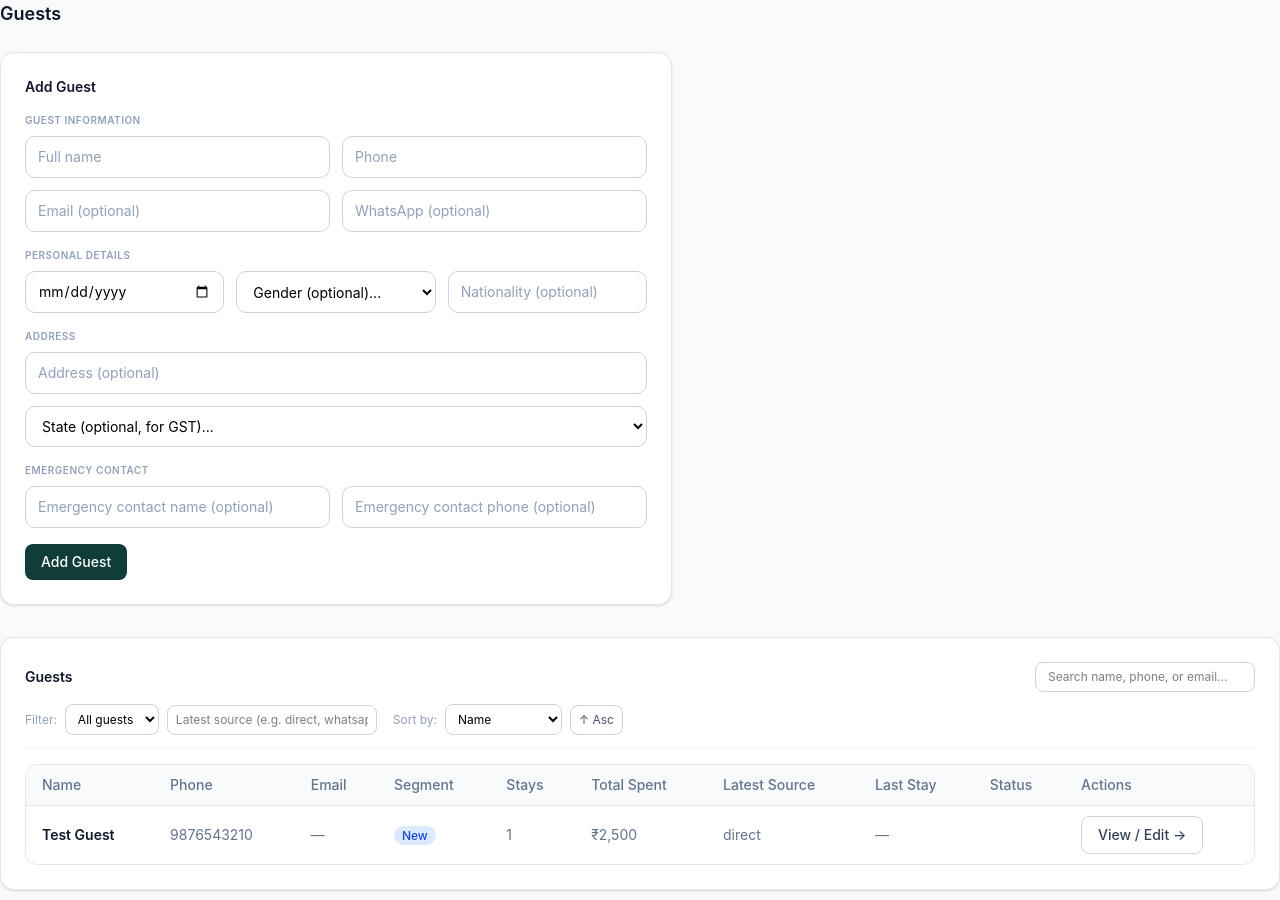
GuestsPage — Guest Merge visibility (RBAC Phase B security fix, finding I-7) › Admin sees the Merge Duplicate control
Click the button "View / Edit →": x=1142, y=835 [1081,816,1203,854]
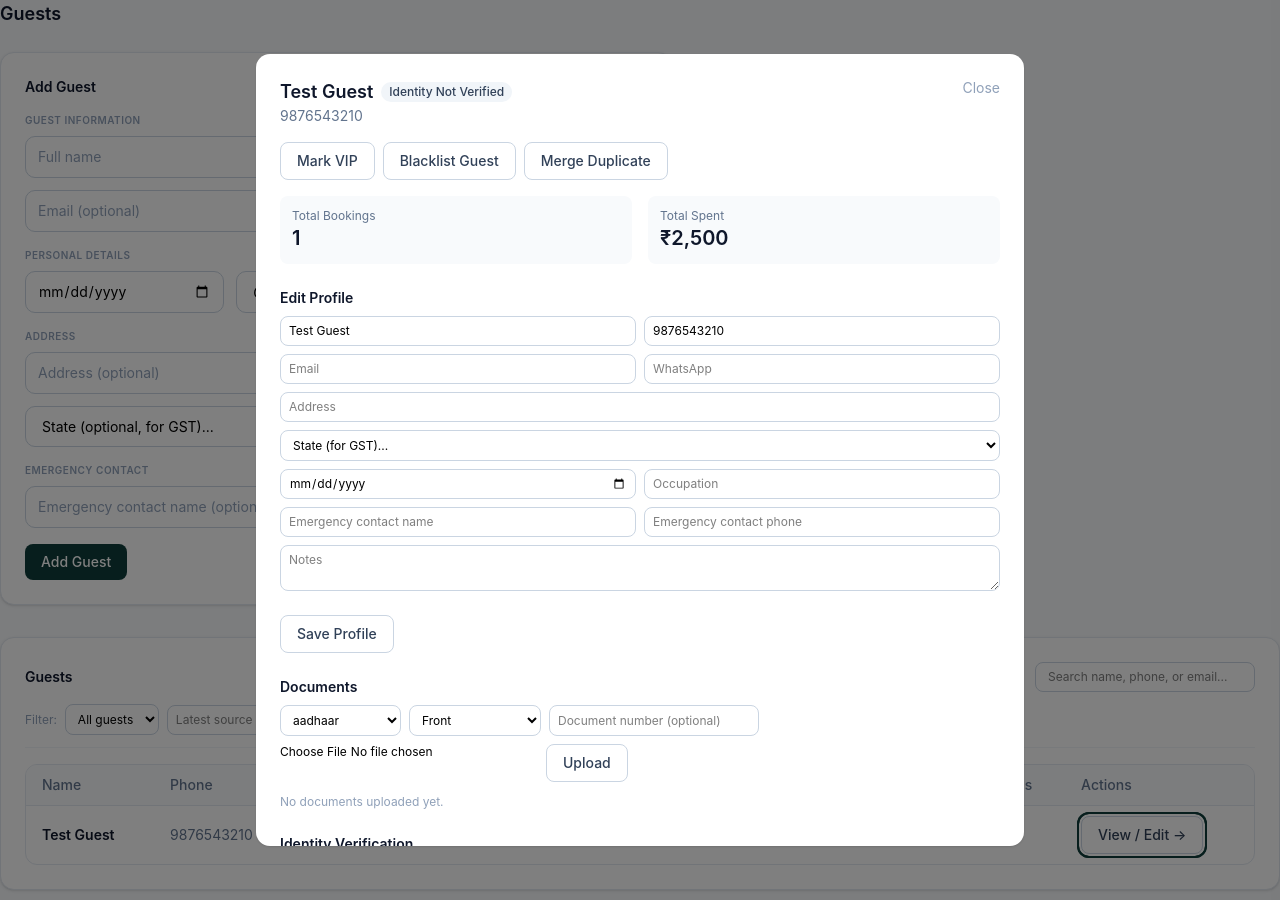
Now the button "Mark VIP" is shown, box [280,142,375,180]
Now the button "Merge Duplicate" is shown, box [524,142,668,180]
